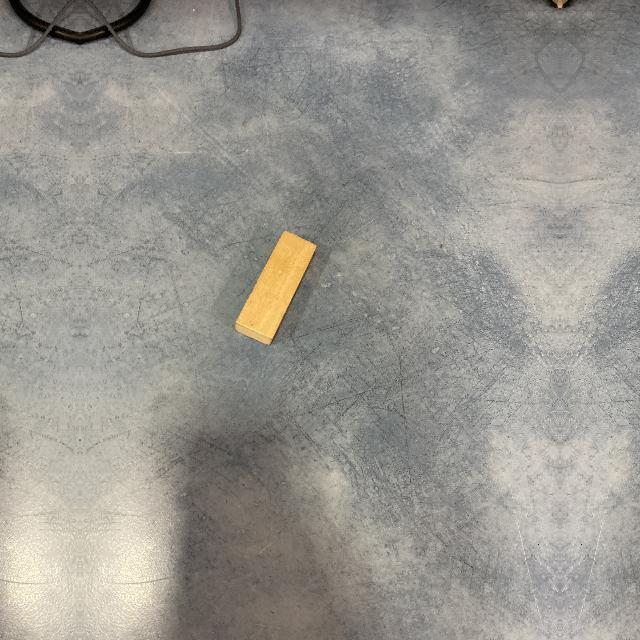jenga: (234, 232, 317, 347)
